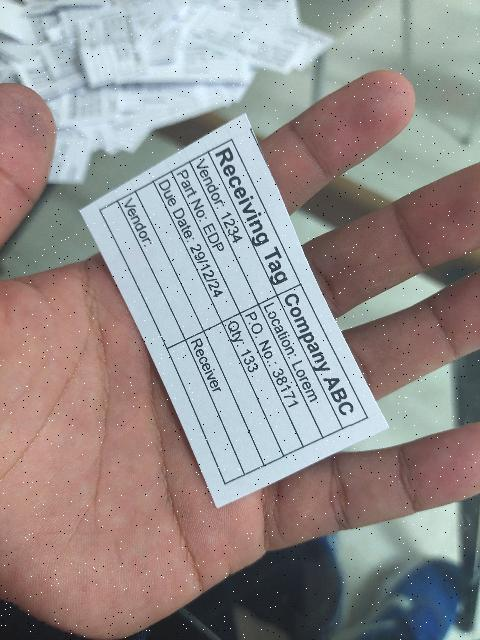PO no: (241, 305, 324, 446)
part no: (171, 162, 259, 313)
qty: (222, 312, 304, 456)
tags: (82, 115, 388, 507)
